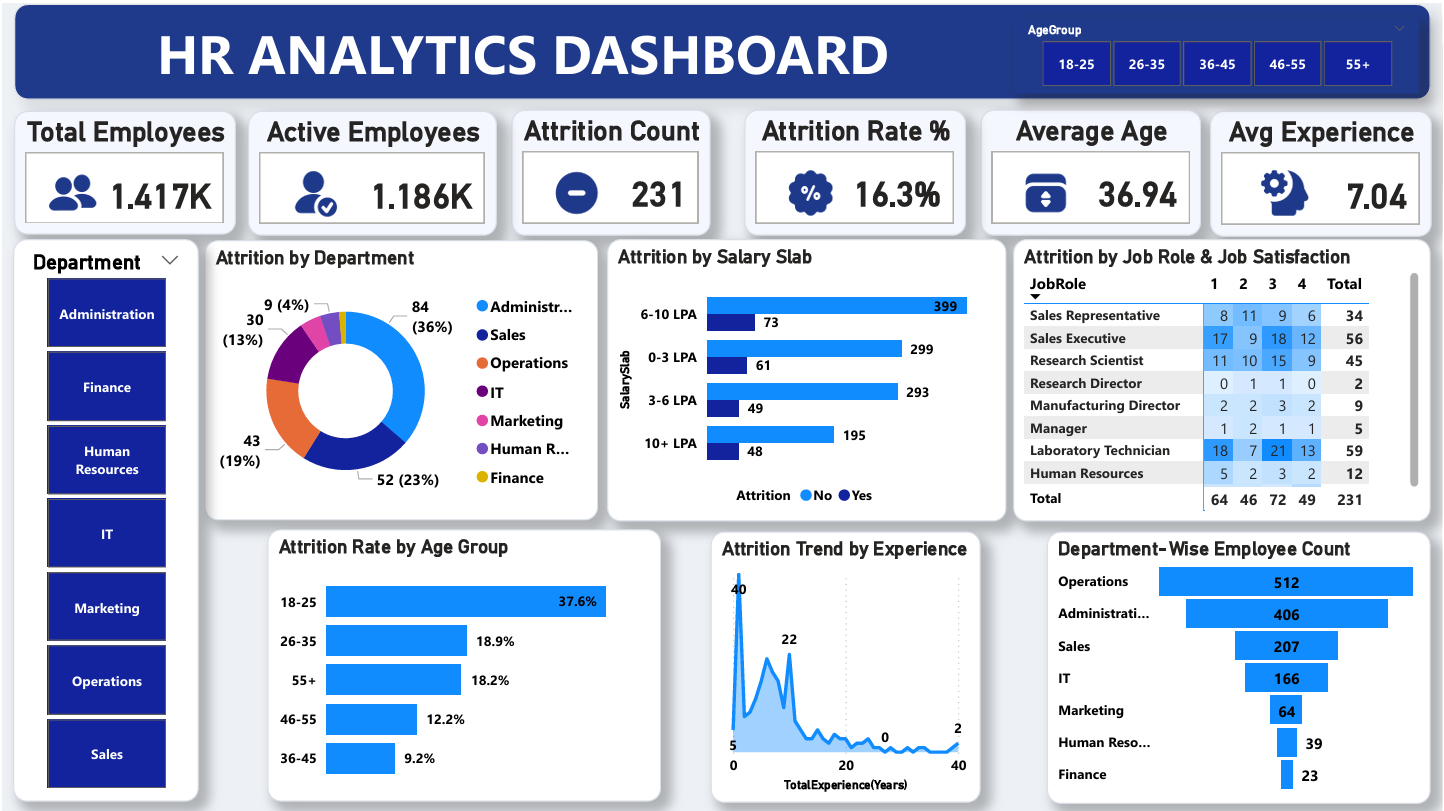

Layout of this report page (visuals, bound fields, positions):
{"tool":"powerbi","page":{"name":"Page 1","canvas":[1280,720],"ordinal":0},"visuals":[{"type":"textbox","box":[10,0,1259,85],"z":0},{"type":"cardVisual","title":"Total Employees","fields":{"Data":["CountNonNull(HR_Analytics-4 (2).EmpID)"]},"box":[10.5,95,196.5,110.5],"z":1000},{"type":"cardVisual","title":"Average Age","fields":{"Data":["Avg(HR_Analytics-4 (2).Age)"]},"box":[868.6,94.2,196.5,111.6],"z":2000},{"type":"cardVisual","title":"Avg Experience","fields":{"Data":["Avg(HR_Analytics-4 (2).YearsatCompany)"]},"box":[1073.3,95.3,196.5,111.6],"z":3000},{"type":"cardVisual","title":"Attrition Count","fields":{"Data":["Sum(HR_Analytics-4 (2).AttritionCount)"]},"box":[452.3,94.2,176.7,111.6],"z":4000},{"type":"cardVisual","title":"Active Employees  ","fields":{"Data":["CountNonNull(HR_Analytics-4 (2).EmployeeCount)"]},"box":[218.2,94.7,220.9,111.1],"z":5000},{"type":"cardVisual","title":"Attrition Rate %","fields":{"Data":["HR_Analytics-4 (2).Attrition Rate %"]},"box":[659.3,94.2,196.5,111.6],"z":6000},{"type":"image","box":[20,135,82.6,66.3],"z":7000},{"type":"image","box":[235,135,81.4,66.3],"z":8000},{"type":"image","box":[470,135,80.2,66.3],"z":9000},{"type":"image","box":[677.9,135,80.2,66.3],"z":10000},{"type":"image","box":[887.2,135,80.2,66.3],"z":11000},{"type":"image","box":[1101.2,135,80.2,66.3],"z":12000},{"type":"donutChart","title":"Attrition by Department","fields":{"Category":["HR_Analytics-4 (2).Department"],"Y":["Sum(HR_Analytics-4 (2).AttritionCount)"]},"box":[179,210,350,249],"z":13000},{"type":"clusteredBarChart","title":"Attrition by Salary Slab","fields":{"Category":["HR_Analytics-4 (2).SalarySlab"],"Y":["CountNonNull(HR_Analytics-4 (2).EmpID)"],"Series":["HR_Analytics-4 (2).Attrition"]},"box":[537,209,355,251],"z":14000},{"type":"pivotTable","title":"Attrition by Job Role & Job Satisfaction","fields":{"Rows":["HR_Analytics-4 (2).JobRole"],"Values":["Sum(HR_Analytics-4 (2).AttritionCount)"],"Columns":["HR_Analytics-4 (2).JobSatisfaction"]},"box":[898,209,371,251.2],"z":15000},{"type":"areaChart","title":"Attrition Trend by Experience","fields":{"Category":["HR_Analytics-4 (2).TotalExperience(Years)"],"Y":["Sum(HR_Analytics-4 (2).AttritionCount)"]},"box":[629.1,468.6,239.5,241.9],"z":15003},{"type":"funnel","title":"Department-Wise Employee  Count","fields":{"Category":["HR_Analytics-4 (2).Department"],"Y":["CountNonNull(HR_Analytics-4 (2).EmpID)"]},"box":[928,469,341,242],"z":15004},{"type":"slicer","fields":{"Values":["HR_Analytics-4 (2).Department"]},"box":[9,209,165,500],"z":15005},{"type":"slicer","fields":{"Values":["HR_Analytics-4 (2).AgeGroup"]},"box":[898,12,361,68],"z":15006},{"type":"clusteredBarChart","title":"Attrition Rate by Age Group","fields":{"Category":["HR_Analytics-4 (2).AgeGroup"],"Y":["HR_Analytics-4 (2).Attrition Rate by Age Group"]},"box":[234.9,467.4,350,241.9],"z":15007}]}

Visuals, with their boxes in screenshot pixels (x1, y1, x2, y2), scaled from the page's 1280x720 canvas onto the 1444x811 screenshot:
textbox: left=11, top=0, right=1432, bottom=96
"Total Employees" cardVisual: left=12, top=107, right=234, bottom=231
"Average Age" cardVisual: left=980, top=106, right=1202, bottom=232
"Avg Experience" cardVisual: left=1211, top=107, right=1432, bottom=233
"Attrition Count" cardVisual: left=510, top=106, right=710, bottom=232
"Active Employees  " cardVisual: left=246, top=107, right=495, bottom=232
"Attrition Rate %" cardVisual: left=744, top=106, right=965, bottom=232
image: left=23, top=152, right=116, bottom=227
image: left=265, top=152, right=357, bottom=227
image: left=530, top=152, right=621, bottom=227
image: left=765, top=152, right=855, bottom=227
image: left=1001, top=152, right=1091, bottom=227
image: left=1242, top=152, right=1333, bottom=227
"Attrition by Department" donutChart: left=202, top=237, right=597, bottom=517
"Attrition by Salary Slab" clusteredBarChart: left=606, top=235, right=1006, bottom=518
"Attrition by Job Role & Job Satisfaction" pivotTable: left=1013, top=235, right=1432, bottom=518
"Attrition Trend by Experience" areaChart: left=710, top=528, right=980, bottom=800
"Department-Wise Employee  Count" funnel: left=1047, top=528, right=1432, bottom=801
slicer - HR_Analytics-4 (2).Department: left=10, top=235, right=196, bottom=799
slicer - HR_Analytics-4 (2).AgeGroup: left=1013, top=14, right=1420, bottom=90
"Attrition Rate by Age Group" clusteredBarChart: left=265, top=526, right=660, bottom=799
